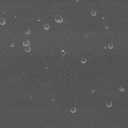corrosion: (54, 15, 63, 24), (68, 106, 77, 115), (104, 100, 113, 108), (59, 49, 67, 57), (79, 58, 88, 65), (22, 39, 30, 46), (24, 46, 32, 53), (1, 17, 6, 27), (90, 10, 97, 17), (107, 43, 114, 50), (42, 24, 50, 30), (9, 41, 15, 48), (119, 87, 126, 93), (25, 29, 31, 35)
